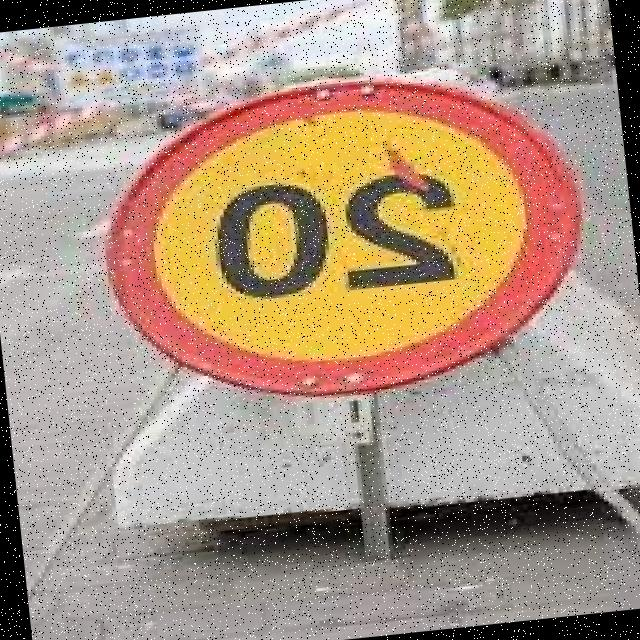speed_limit_20: (62, 39, 615, 426)
